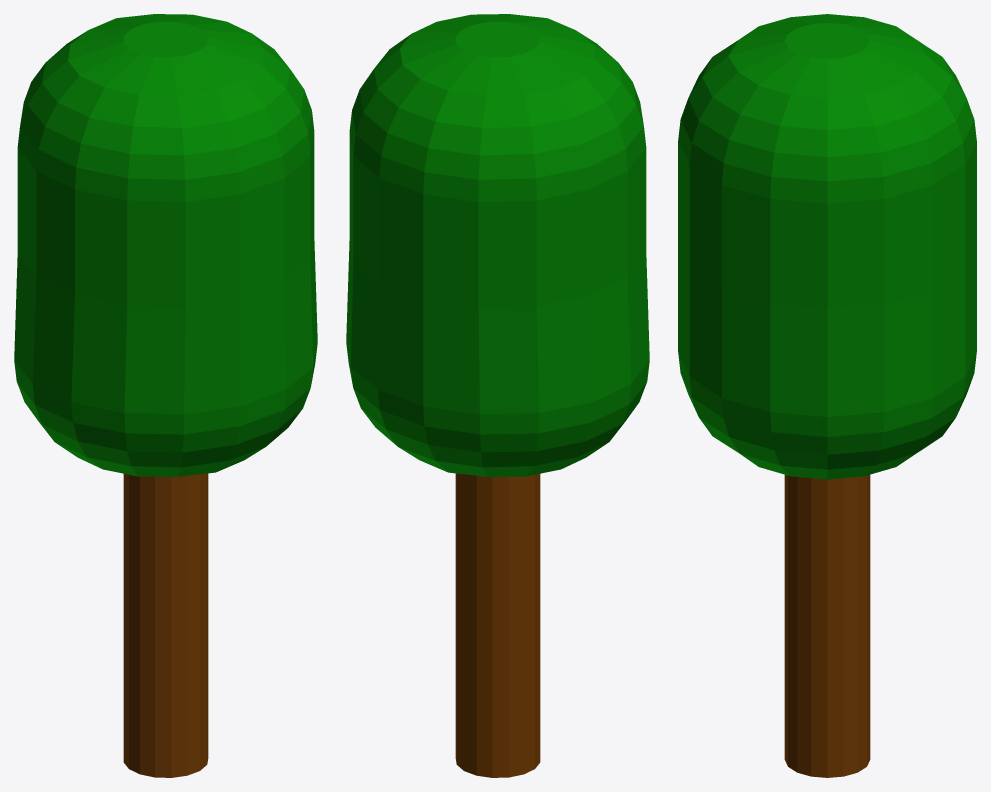
File: tree1.fbx
3 renders of one model, left to right at view 1: azimuth 30°, elevation 25°; view 2: azimuth 150°, elevation 25°; view 3: azimuth 270°, elevation 25°, orthographic.
Parts seen in each view (by area): view 1: Tree1; view 2: Tree1; view 3: Tree1.
Boxes of the visible parts, bbox=[...] form: Tree1: bbox=[14, 14, 317, 777]; Tree1: bbox=[346, 14, 649, 777]; Tree1: bbox=[678, 14, 976, 777].
Size of the model in its own units: 300 by 774 by 291.
